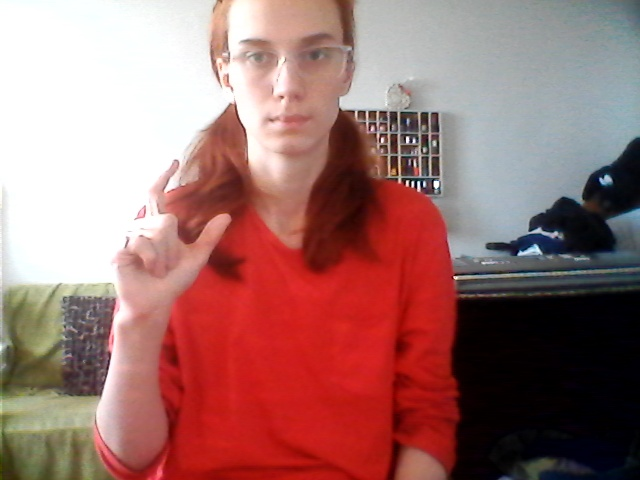c: (105, 156, 234, 328)
